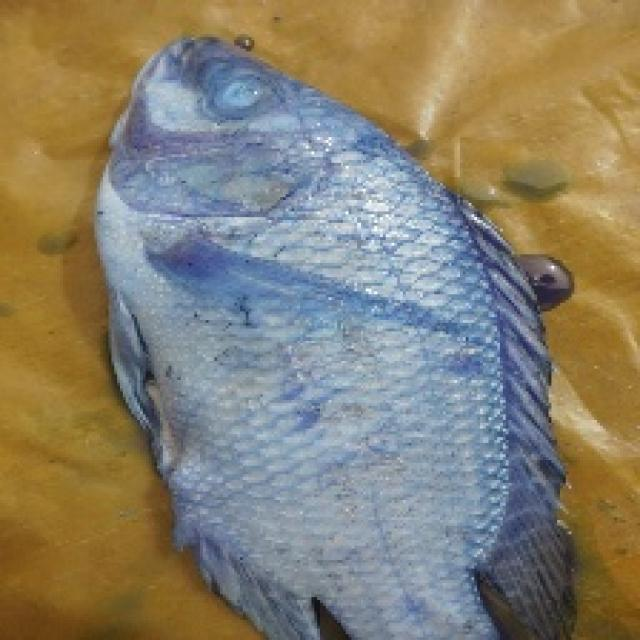Non-Fresh: (77, 18, 530, 616)
